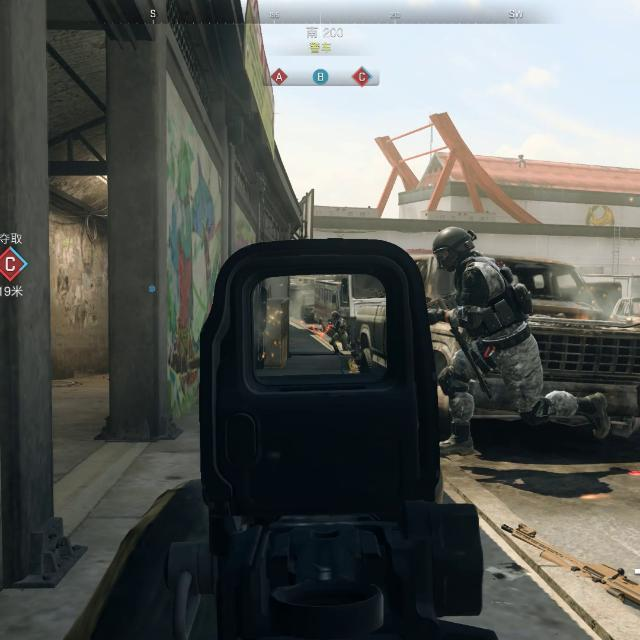MW2_body: (432, 225, 572, 455), (328, 311, 352, 354)
